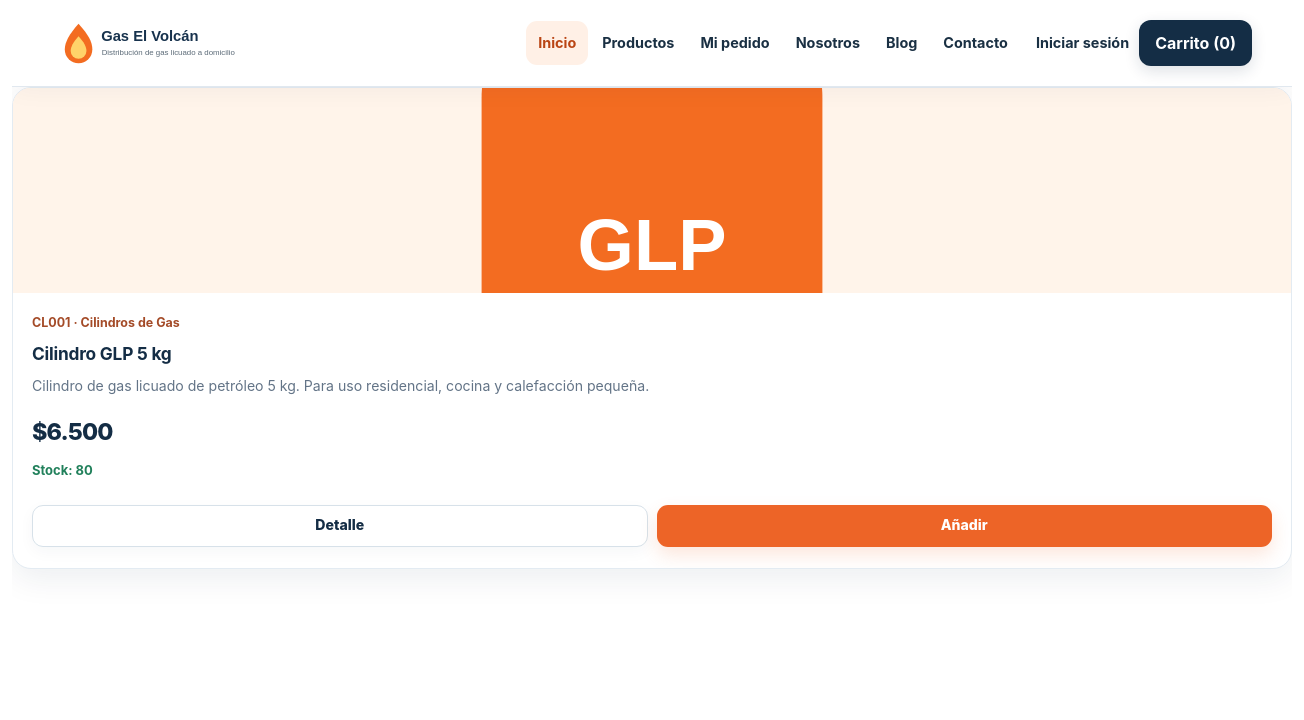
Carrito › elimina un producto del carrito
Click the button "Añadir". click: (964, 526)
box: [656, 504, 1272, 546]
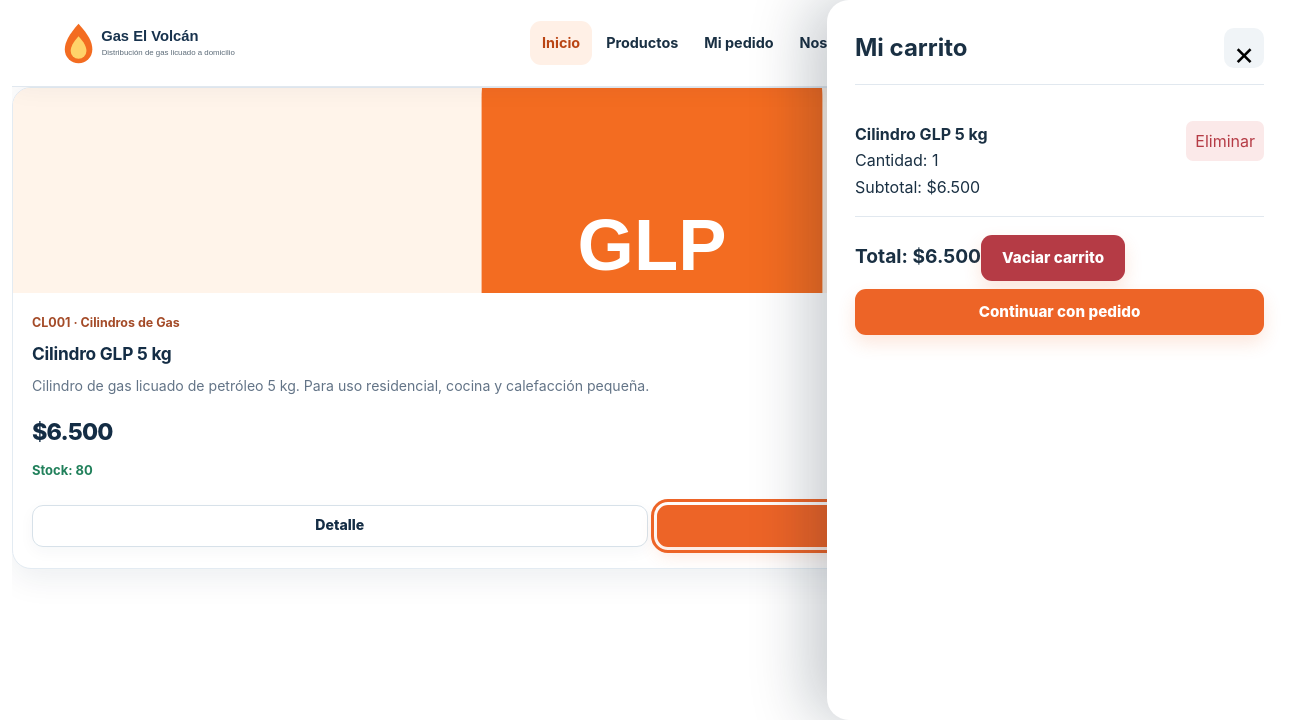
Click the button "Eliminar". click: (1225, 141)
box: [1186, 121, 1264, 161]
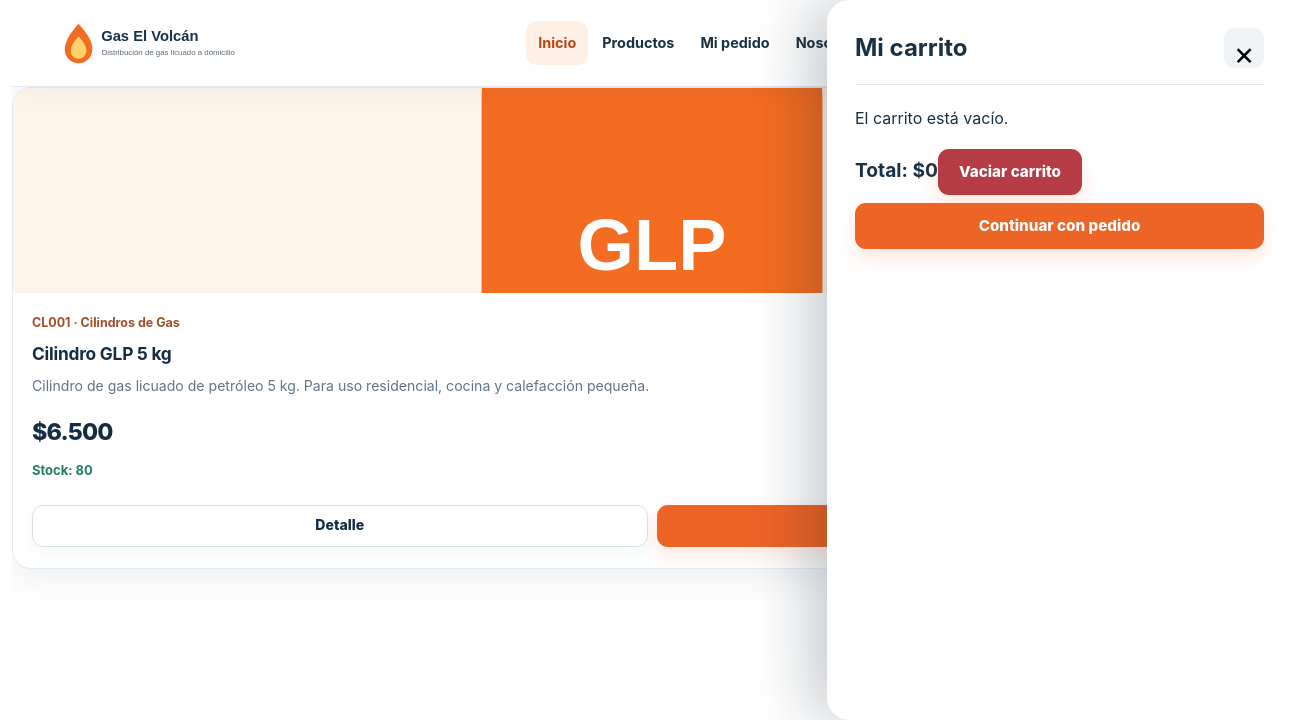
Check: the text "El carrito está vacío." is shown, box [855, 108, 1008, 128]
